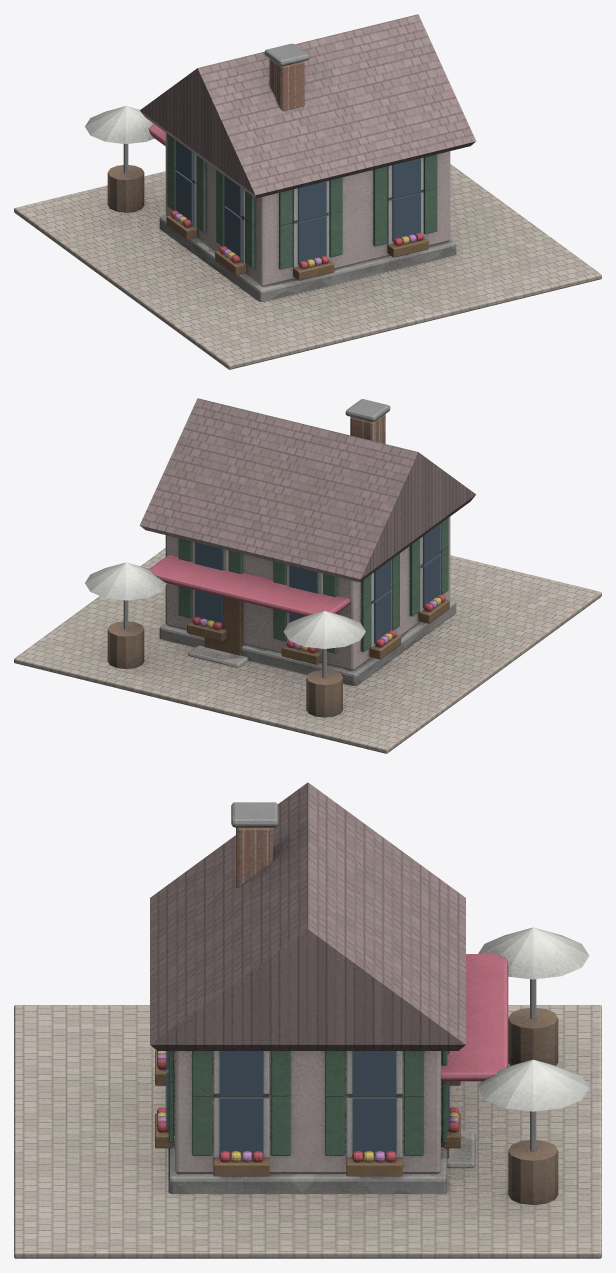
Rendered from cafe.glb.
3 renders of one model, top to bottom at view 1: azimuth 30°, elevation 25°; view 2: azimuth 150°, elevation 25°; view 3: azimuth 270°, elevation 25°, orthographic. The views are drawn at different scales.
Parts seen in each view (by area): view 1: cafe, cafe_details; view 2: cafe, cafe_details; view 3: cafe, cafe_details.
Part boxes in pixels (x1,y1,x2,y2): cafe: (14, 14, 601, 369); cafe_details: (123, 140, 420, 264); cafe: (14, 398, 601, 753); cafe_details: (123, 524, 440, 678); cafe: (14, 782, 601, 1258); cafe_details: (166, 979, 536, 1154).
Size of the model in its own units: 0.94 by 0.525 by 0.94.
3 materials, 1 textured.
